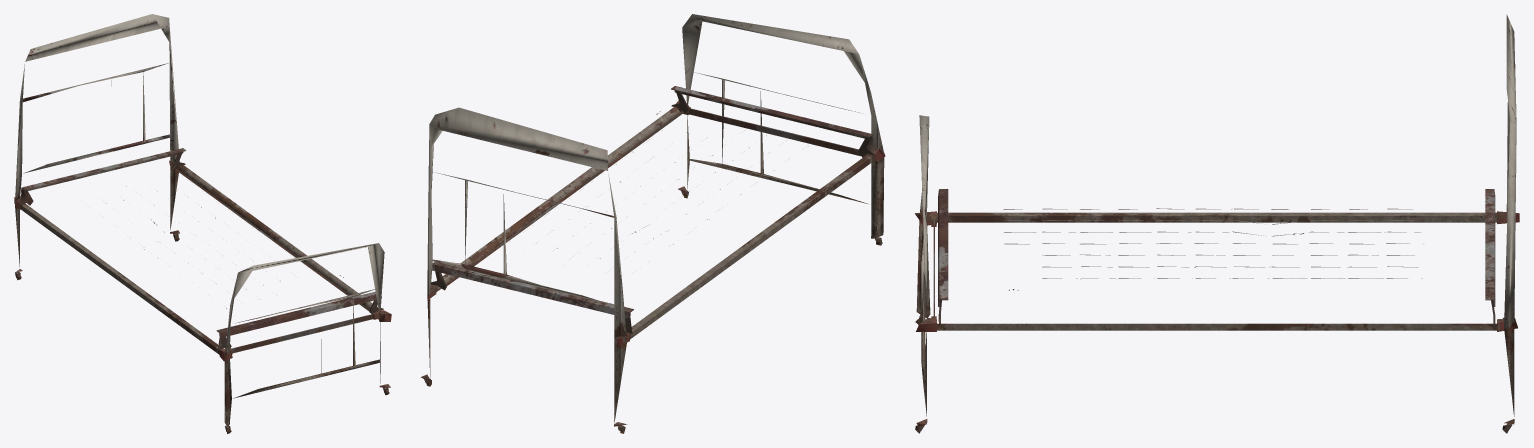
Rendered from bed.glb.
3 views of the same model, side by side, from view 1: azimuth 30°, elevation 25°; view 2: azimuth 150°, elevation 25°; view 3: azimuth 270°, elevation 25° (orthographic). The views are drawn at different scales.
Visible parts, largest first — view 1: old_bed_frame; view 2: old_bed_frame; view 3: old_bed_frame.
Part boxes in pixels (<box>): old_bed_frame: <box>14,14,391,433</box>; old_bed_frame: <box>421,14,885,433</box>; old_bed_frame: <box>915,14,1519,433</box>.
Bounding box in the file's own units: 0.8966 × 1.19 × 2.
1 material, 1 textured.
